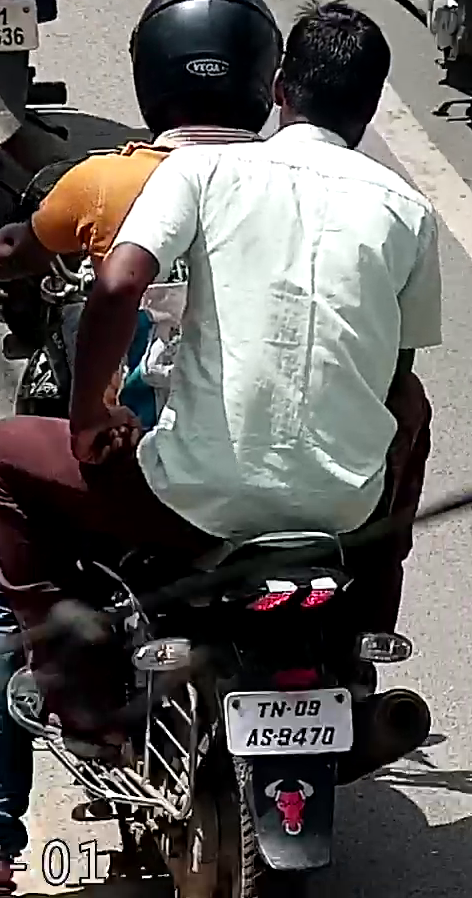.: (287, 705, 291, 711), (274, 733, 278, 737)
0: (323, 725, 335, 744), (295, 698, 307, 716)
4: (293, 726, 308, 746)
7: (309, 725, 322, 745)
9: (278, 726, 292, 745), (308, 699, 321, 716)
A: (246, 727, 259, 747)
N: (271, 700, 286, 717)
P16: (223, 685, 355, 757)
S: (260, 727, 273, 746)
T: (257, 700, 271, 717)
